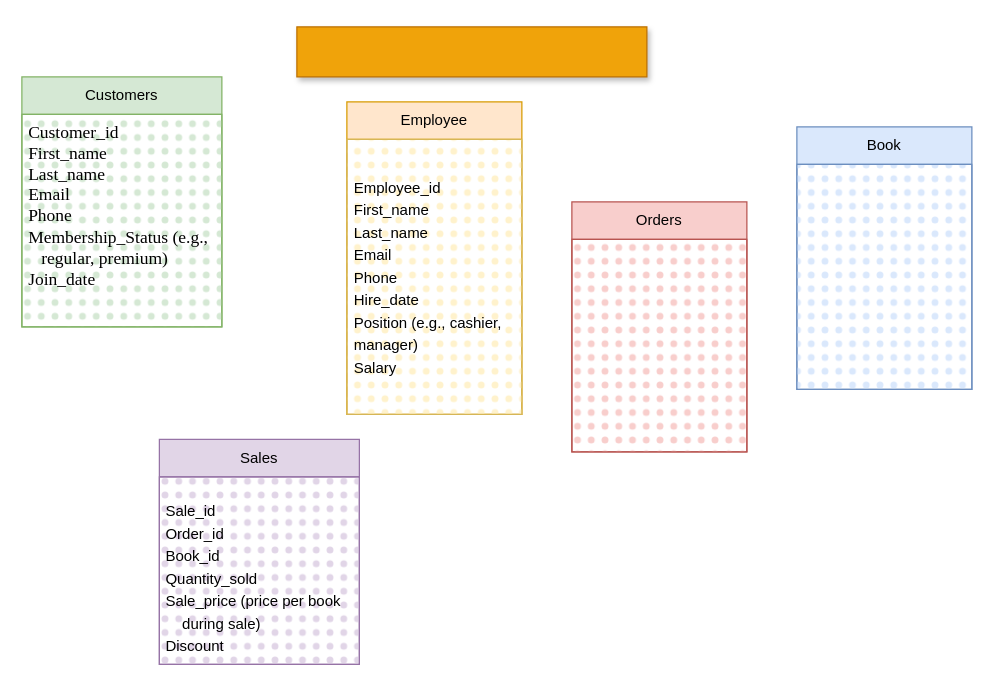
Image size: 994x695. Some labels were removed from this diagram. The shapes that lost their labels are listed below. From the top down, each one's centre as x and y in pixels, then its label:
(x=472, y=53): Entity Relationship Diagram (EDR) for Bookstore
(x=884, y=276): Book_id Title Author Genre Price Publication_date Stock_quantity
(x=659, y=345): Order_id Customer_id Employee_id Order_date Total_amount
